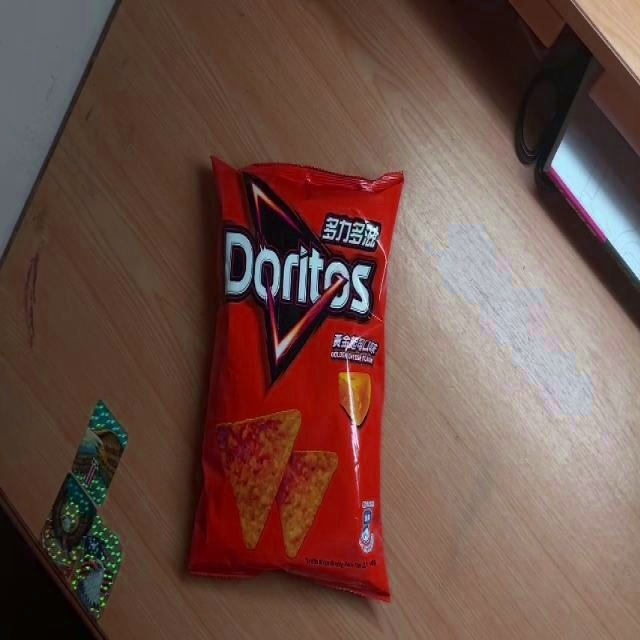Doritos: (184, 152, 404, 606)
